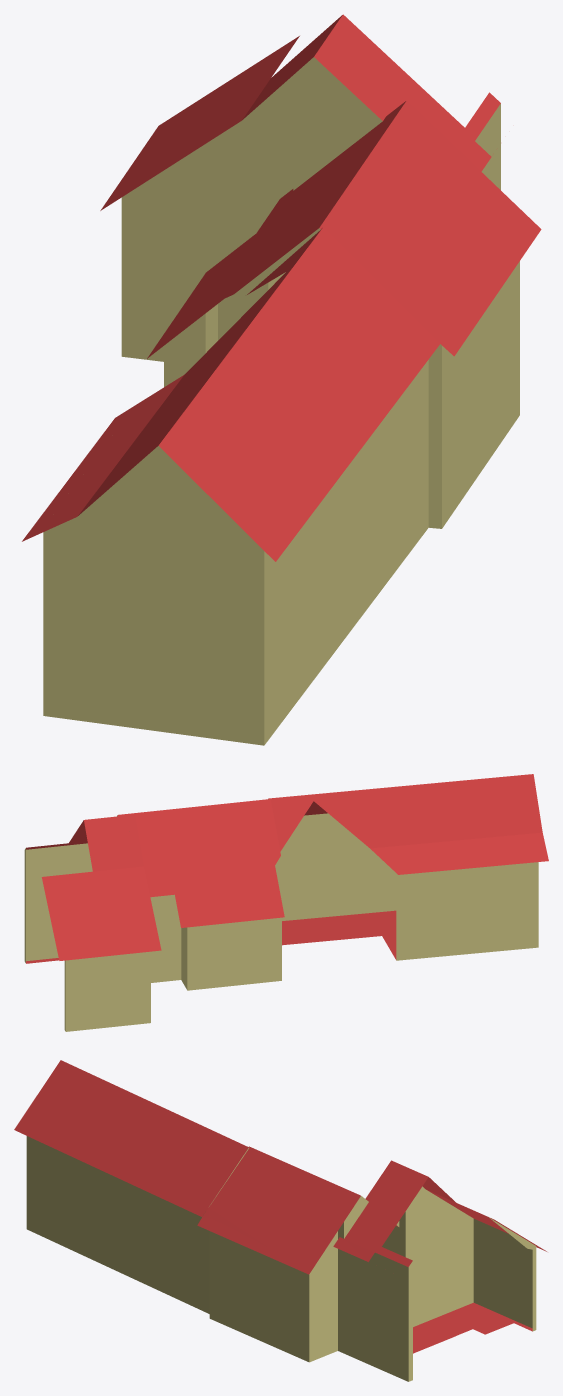
3 views of the same model, one above another, from view 1: azimuth 30°, elevation 25°; view 2: azimuth 150°, elevation 25°; view 3: azimuth 270°, elevation 25° (orthographic). The views are drawn at different scales.
Bounding box in the file's own units: 38.8 × 44.46 × 15.62.
